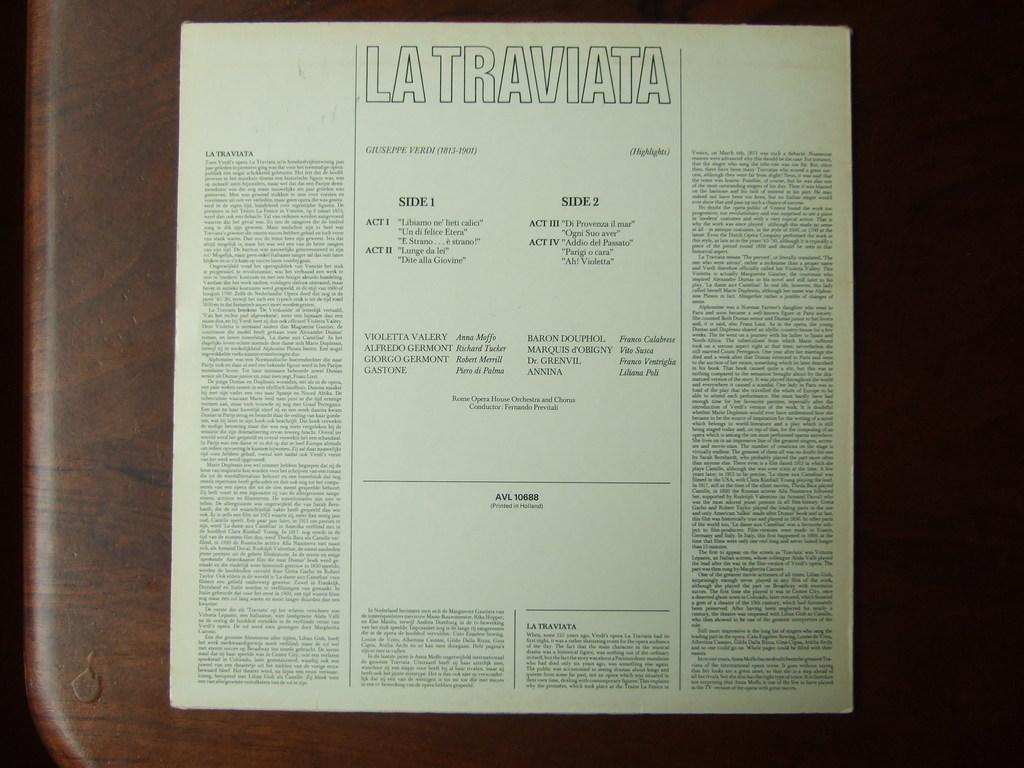book: (86, 8, 912, 728)
